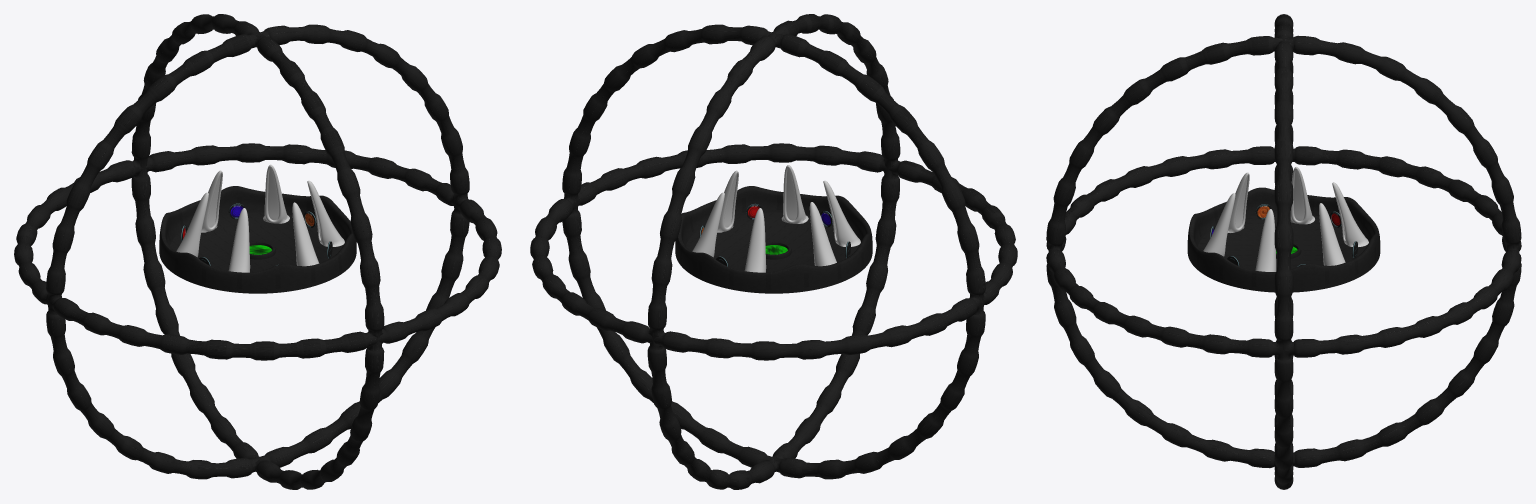
The model's file is World.fbx.
3 renders of one model, left to right at view 1: azimuth 30°, elevation 25°; view 2: azimuth 150°, elevation 25°; view 3: azimuth 270°, elevation 25°, orthographic. The views are drawn at different scales.
Parts seen in each view (by area): view 1: SkyRing, Wall, Floor, Pillar.2, Pillar.5, Pillar.4, Pillar.3, Pillar, Pillar.1; view 2: SkyRing, Wall, Floor, Pillar.4, Pillar.1, Pillar, Pillar.5, Pillar.2, Pillar.3; view 3: SkyRing, Wall, Floor, Pillar.2, Pillar.3, Pillar, Pillar.1, Pillar.4, Pillar.5.
Part boxes in pixels (left/top/right/bottom): SkyRing: left=14, top=14, right=501, bottom=489; Wall: left=159, top=186, right=356, bottom=293; Floor: left=170, top=212, right=343, bottom=272; Pillar.2: left=263, top=164, right=289, bottom=223; Pillar.5: left=228, top=208, right=250, bottom=272; Pillar.4: left=292, top=202, right=319, bottom=266; Pillar.3: left=307, top=180, right=344, bottom=246; Pillar: left=176, top=192, right=208, bottom=257; Pillar.1: left=201, top=170, right=222, bottom=232; SkyRing: left=530, top=14, right=1017, bottom=489; Wall: left=675, top=186, right=872, bottom=293; Floor: left=686, top=212, right=859, bottom=272; Pillar.4: left=781, top=165, right=808, bottom=223; Pillar.1: left=744, top=208, right=766, bottom=272; Pillar: left=809, top=202, right=836, bottom=266; Pillar.5: left=823, top=180, right=860, bottom=246; Pillar.2: left=692, top=192, right=724, bottom=257; Pillar.3: left=717, top=170, right=738, bottom=232; SkyRing: left=1046, top=14, right=1521, bottom=489; Wall: left=1187, top=187, right=1380, bottom=292; Floor: left=1198, top=213, right=1367, bottom=270; Pillar.2: left=1319, top=203, right=1345, bottom=265; Pillar.3: left=1255, top=209, right=1276, bottom=271; Pillar: left=1290, top=167, right=1314, bottom=224; Pillar.1: left=1332, top=182, right=1368, bottom=246; Pillar.4: left=1203, top=193, right=1235, bottom=256; Pillar.5: left=1227, top=172, right=1249, bottom=232.
Bounding box in the file's own units: 16802 × 16802 × 16802.
